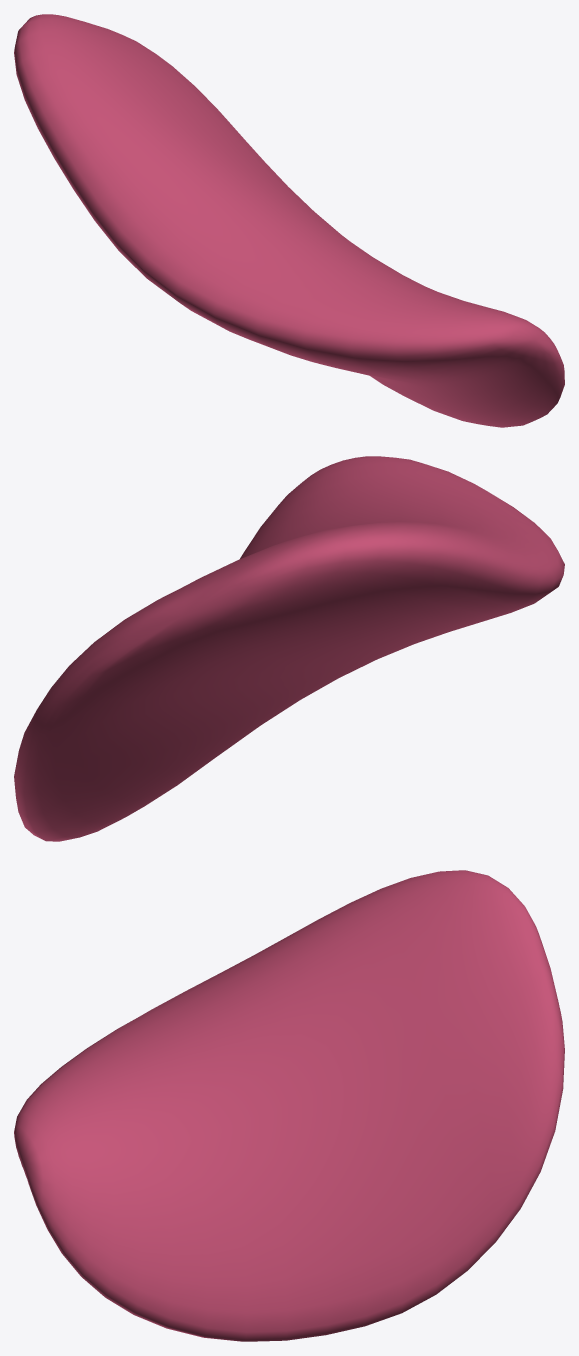
3 renders of one model, top to bottom at view 1: azimuth 30°, elevation 25°; view 2: azimuth 150°, elevation 25°; view 3: azimuth 270°, elevation 25°, orthographic. The views are drawn at different scales.
Parts seen in each view (by area): view 1: 右侧闭孔内肌坐骨囊; view 2: 右侧闭孔内肌坐骨囊; view 3: 右侧闭孔内肌坐骨囊.
Boxes of the visible parts, bbox=[...] form: 右侧闭孔内肌坐骨囊: bbox=[14, 14, 564, 427]; 右侧闭孔内肌坐骨囊: bbox=[14, 456, 564, 841]; 右侧闭孔内肌坐骨囊: bbox=[14, 870, 564, 1341].
Size of the model in its own units: 0.0201 by 0.0194 by 0.029.
